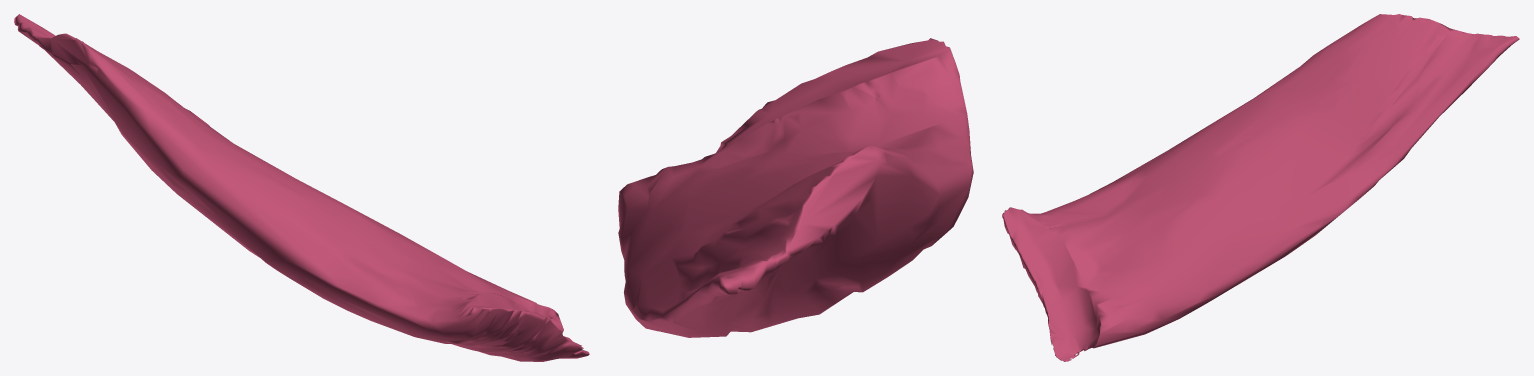
The picture shows the model from 3 angles, left to right: view 1: azimuth 30°, elevation 25°; view 2: azimuth 150°, elevation 25°; view 3: azimuth 270°, elevation 25°; orthographic projection. The views are drawn at different scales.
Visible parts, largest first — view 1: 右侧耻骨肌; view 2: 右侧耻骨肌; view 3: 右侧耻骨肌.
Boxes of the visible parts, x1,y1,x2,y2 form: 右侧耻骨肌: [14, 14, 589, 361]; 右侧耻骨肌: [618, 38, 973, 337]; 右侧耻骨肌: [1002, 14, 1519, 361].
Size of the model in its own units: 0.122 by 0.0893 by 0.1934.
